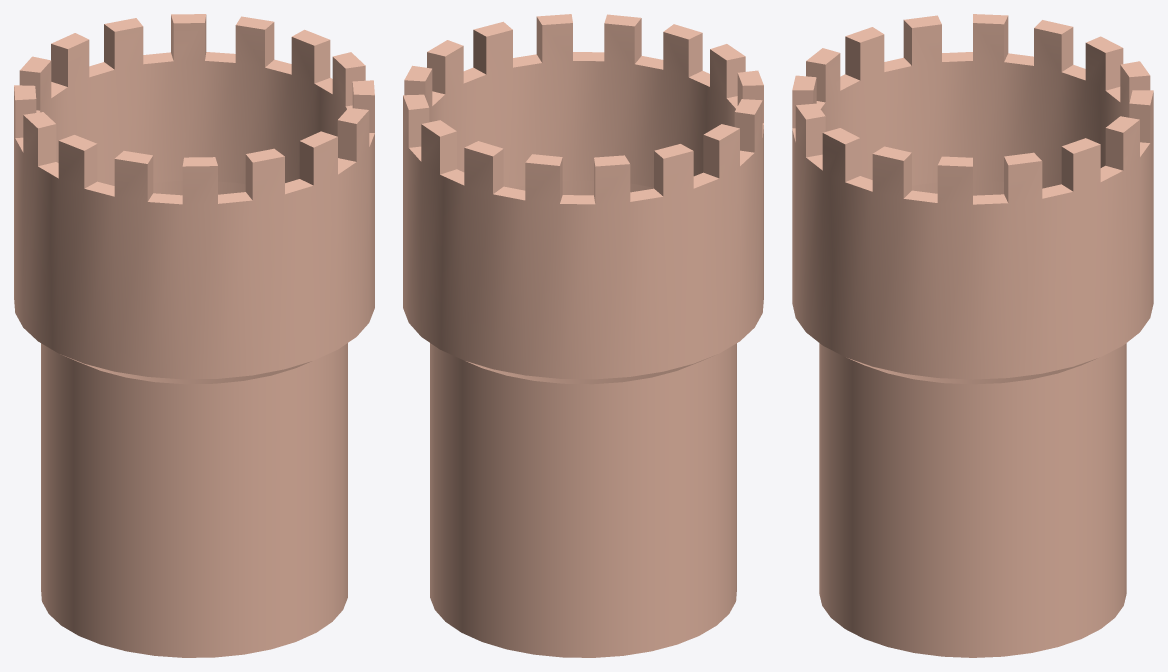
File: Castillo_Torreta.fbx
3 views of the same model, side by side, from view 1: azimuth 30°, elevation 25°; view 2: azimuth 150°, elevation 25°; view 3: azimuth 270°, elevation 25° (orthographic).
Parts seen in each view (by area): view 1: Castillo_Torreta; view 2: Castillo_Torreta; view 3: Castillo_Torreta.
Part boxes in pixels (x1,y1,x2,y2): Castillo_Torreta: [14, 14, 374, 657]; Castillo_Torreta: [403, 14, 763, 657]; Castillo_Torreta: [792, 14, 1153, 657].
Bounding box in the file's own units: 4939 × 7576 × 4939.
